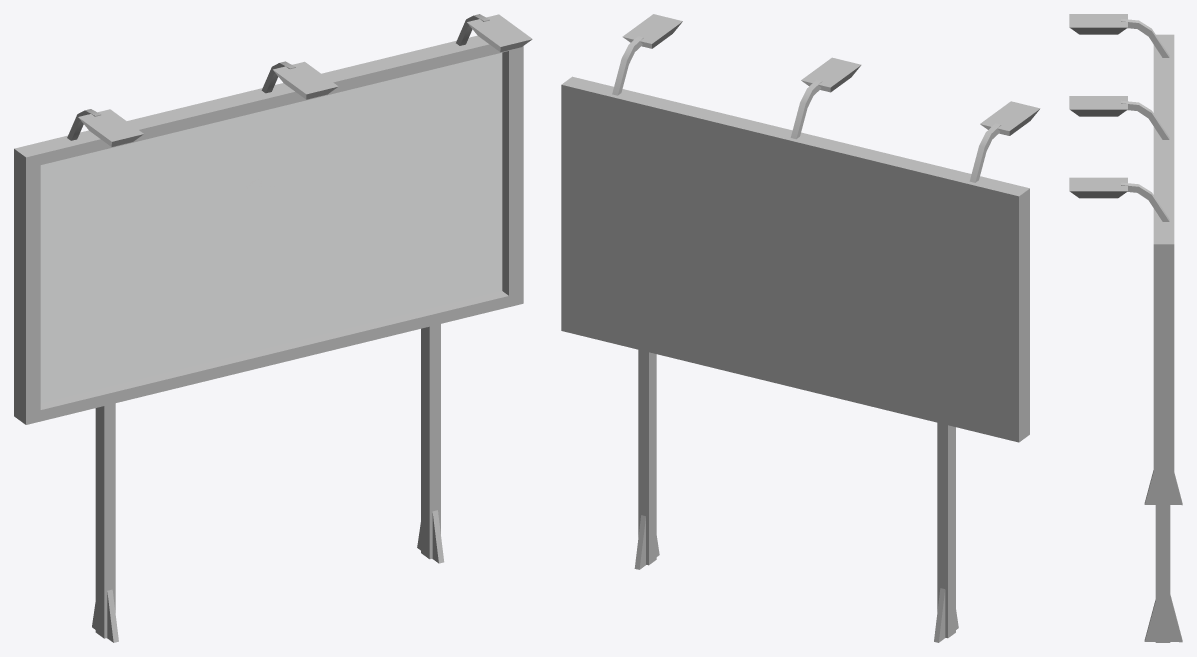
3 renders of one model, left to right at view 1: azimuth 30°, elevation 25°; view 2: azimuth 150°, elevation 25°; view 3: azimuth 270°, elevation 25°, orthographic. The views are drawn at different scales.
Parts seen in each view (by area): view 1: monit, Box001; view 2: Box001; view 3: Box001.
Boxes of the visible parts, <box> form: monit: <box>40,52,502,403</box>; Box001: <box>14,14,532,642</box>; Box001: <box>561,14,1040,642</box>; Box001: <box>1069,14,1182,642</box>.
Size of the model in its own units: 205 by 215 by 46.74.
